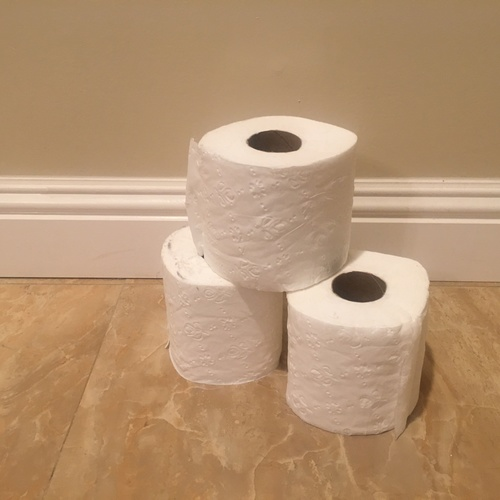roll: (186, 115, 358, 295), (286, 248, 430, 437), (160, 221, 282, 385)
